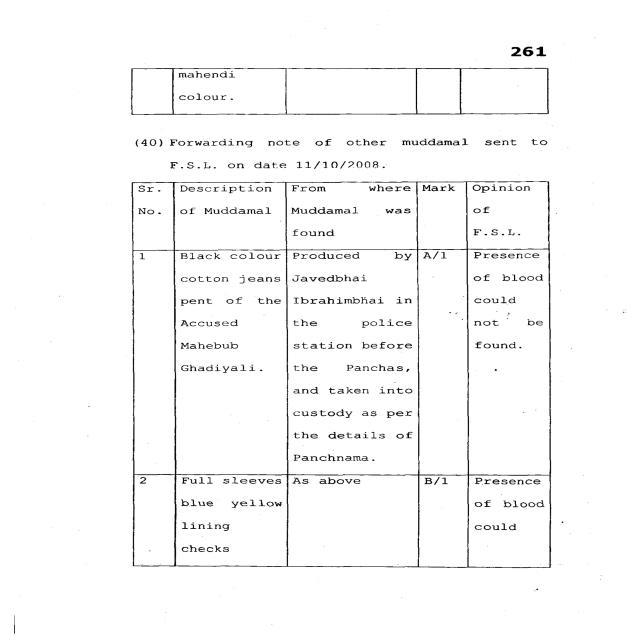page-number: (416, 1, 634, 60)
